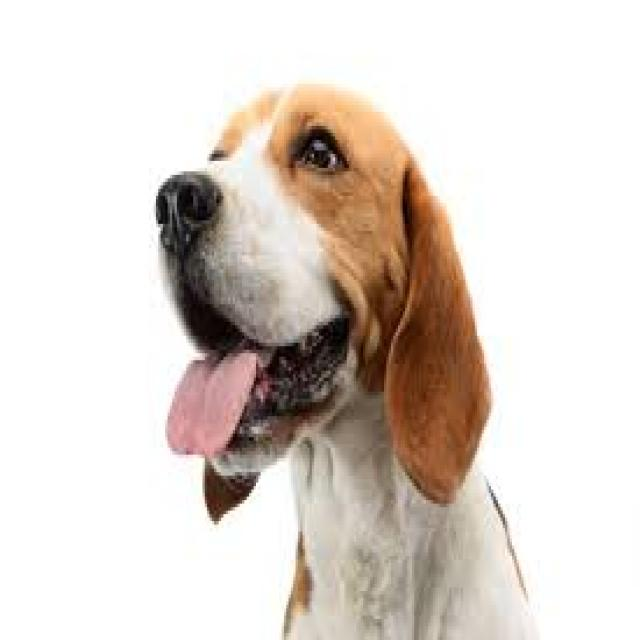Dog: (151, 74, 543, 640)
